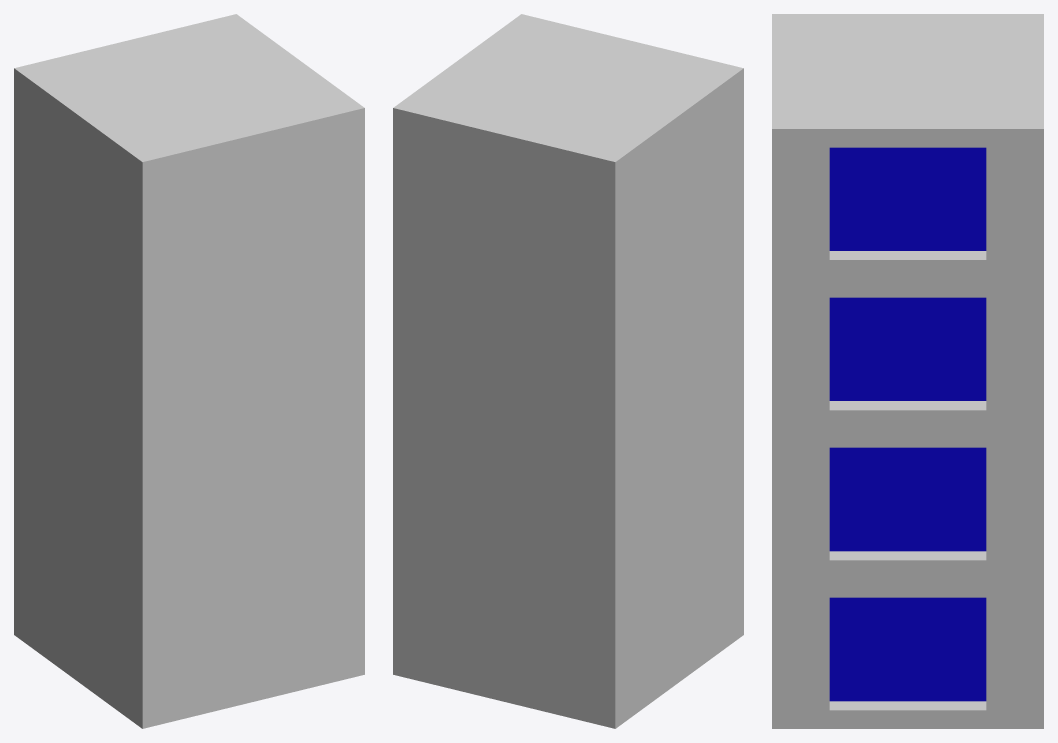
File: server.fbx
3 renders of one model, left to right at view 1: azimuth 30°, elevation 25°; view 2: azimuth 150°, elevation 25°; view 3: azimuth 270°, elevation 25°, orthographic. The views are drawn at different scales.
Visible parts, largest first — view 1: Cube; view 2: Cube; view 3: Cube.
Boxes of the visible parts, bbox=[...] form: Cube: bbox=[14, 14, 364, 728]; Cube: bbox=[393, 14, 743, 728]; Cube: bbox=[772, 14, 1043, 728].
Bounding box in the file's own units: 328 × 800 × 328.
